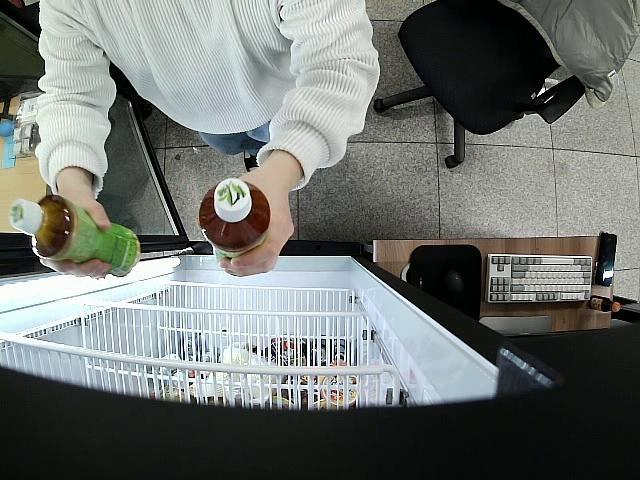19_17cha: (9, 197, 140, 278), (200, 179, 272, 276)
